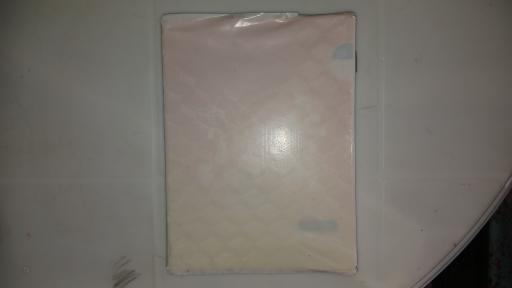notebook: (165, 15, 355, 276)
